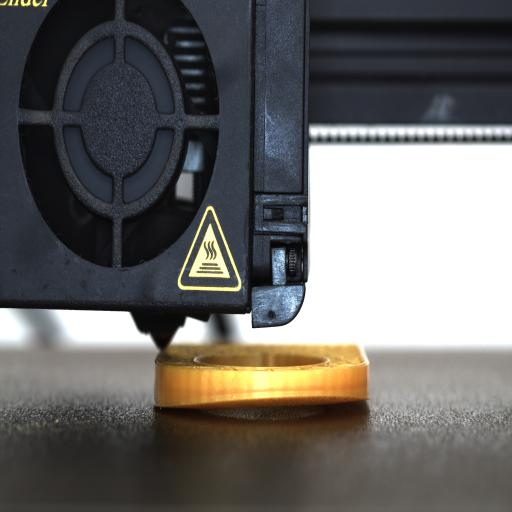warp: (155, 386, 369, 416)
